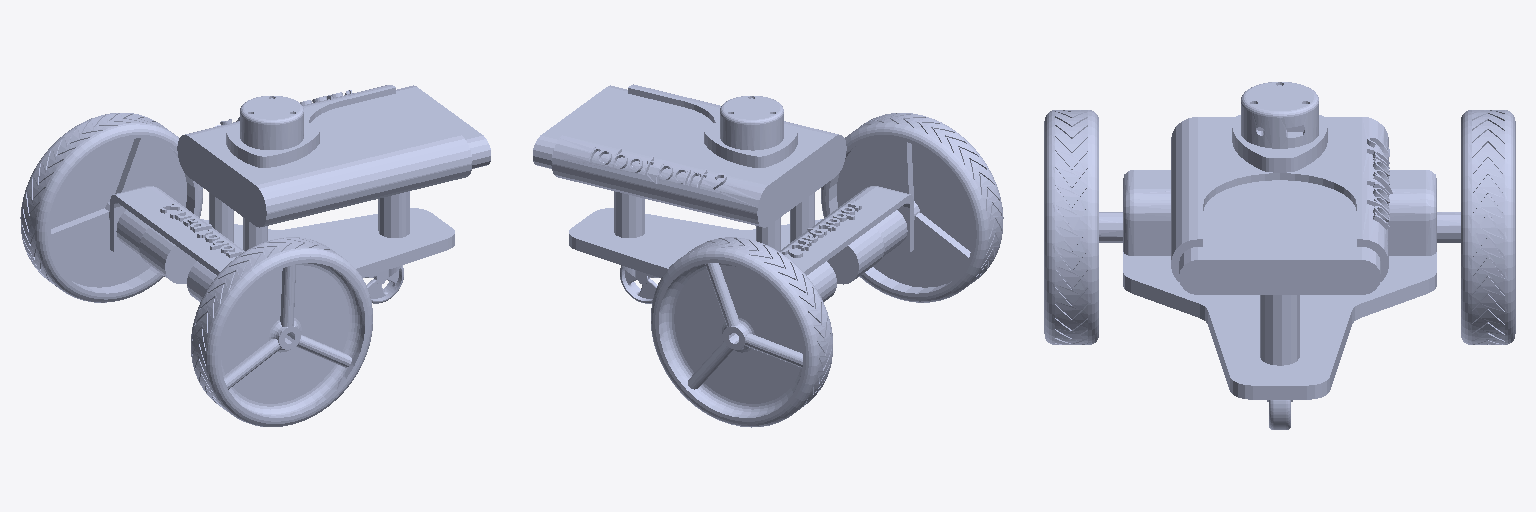
The robot description file, URDF, robot "robot_part2":
<?xml version="1.0" encoding="utf-8"?>
<!-- This URDF was automatically created by SolidWorks to URDF Exporter! Originally created by [author] ([email redacted]) 
     Commit Version: 1.6.0-4-g7f85cfe  Build Version: 1.6.7995.38578
     For more information, please see http://wiki.ros.org/sw_urdf_exporter -->
<robot
  name="robot_part2">
  <link
    name="base_link">
    <inertial>
      <origin
        xyz="-0.0041167 5.0661E-05 0.055243"
        rpy="0 0 0" />
      <mass
        value="1.4917" />
      <inertia
        ixx="0.0024753"
        ixy="1.6253E-07"
        ixz="0.00015354"
        iyy="0.0047624"
        iyz="-1.0939E-06"
        izz="0.0067446" />
    </inertial>
    <visual>
      <origin
        xyz="0 0 0"
        rpy="0 0 0" />
      <geometry>
        <mesh
          filename="package://robot_part2/meshes/base_link.STL" />
      </geometry>
      <material
        name="">
        <color
          rgba="0.79216 0.81961 0.93333 1" />
      </material>
    </visual>
    <collision>
      <origin
        xyz="0 0 0"
        rpy="0 0 0" />
      <geometry>
        <mesh
          filename="package://robot_part2/meshes/base_link.STL" />
      </geometry>
    </collision>
  </link>
  <link
    name="left">
    <inertial>
      <origin
        xyz="-1.5318E-08 -7.4504E-09 -0.012822"
        rpy="0 0 0" />
      <mass
        value="0.30996" />
      <inertia
        ixx="0.00053464"
        ixy="-1.2152E-10"
        ixz="1.4351E-11"
        iyy="0.00053464"
        iyz="7.5703E-12"
        izz="0.0010312" />
    </inertial>
    <visual>
      <origin
        xyz="0 0 0"
        rpy="0 0 0" />
      <geometry>
        <mesh
          filename="package://robot_part2/meshes/left.STL" />
      </geometry>
      <material
        name="">
        <color
          rgba="0.79216 0.81961 0.93333 1" />
      </material>
    </visual>
    <collision>
      <origin
        xyz="0 0 0"
        rpy="0 0 0" />
      <geometry>
        <mesh
          filename="package://robot_part2/meshes/left.STL" />
      </geometry>
    </collision>
  </link>
  <joint
    name="left"
    type="continuous">
    <origin
      xyz="-0.097381 0.145 0.0085"
      rpy="-1.5708 0 0" />
    <parent
      link="base_link" />
    <child
      link="left" />
    <axis
      xyz="0 0 1" />
    <limit
      effort="100"
      velocity="100" />
    <dynamics
      damping="0.1"
      friction="0.1" />
  </joint>
  <link
    name="right">
    <inertial>
      <origin
        xyz="8.8298E-09 1.4566E-08 0.0053216"
        rpy="0 0 0" />
      <mass
        value="0.30996" />
      <inertia
        ixx="0.00053464"
        ixy="-1.3827E-10"
        ixz="8.8601E-12"
        iyy="0.00053464"
        iyz="1.3593E-11"
        izz="0.0010312" />
    </inertial>
    <visual>
      <origin
        xyz="0 0 0"
        rpy="0 0 0" />
      <geometry>
        <mesh
          filename="package://robot_part2/meshes/right.STL" />
      </geometry>
      <material
        name="">
        <color
          rgba="0.79216 0.81961 0.93333 1" />
      </material>
    </visual>
    <collision>
      <origin
        xyz="0 0 0"
        rpy="0 0 0" />
      <geometry>
        <mesh
          filename="package://robot_part2/meshes/right.STL" />
      </geometry>
    </collision>
  </link>
  <joint
    name="right"
    type="continuous">
    <origin
      xyz="-0.097381 -0.1375 0.0085"
      rpy="1.5708 0 -3.1416" />
    <parent
      link="base_link" />
    <child
      link="right" />
    <axis
      xyz="0 0 -1" />
    <limit
      effort="100"
      velocity="100" />
    <dynamics
      damping="0.1"
      friction="0.1" />
  </joint>
  <link
    name="conquay">
    <inertial>
      <origin
        xyz="-0.0067376 -9.0019E-09 0.010834"
        rpy="0 0 0" />
      <mass
        value="0.0019837" />
      <inertia
        ixx="2.7268E-07"
        ixy="-1.4459E-12"
        ixz="8.356E-08"
        iyy="3.0637E-07"
        iyz="1.3524E-12"
        izz="2.7057E-07" />
    </inertial>
    <visual>
      <origin
        xyz="0 0 0"
        rpy="0 0 0" />
      <geometry>
        <mesh
          filename="package://robot_part2/meshes/conquay.STL" />
      </geometry>
      <material
        name="">
        <color
          rgba="0.79216 0.81961 0.93333 1" />
      </material>
    </visual>
    <collision>
      <origin
        xyz="0 0 0"
        rpy="0 0 0" />
      <geometry>
        <mesh
          filename="package://robot_part2/meshes/conquay.STL" />
      </geometry>
    </collision>
  </link>
  <joint
    name="conquay"
    type="continuous">
    <origin
      xyz="0.080203 0 -0.008"
      rpy="3.1416 0 0" />
    <parent
      link="base_link" />
    <child
      link="conquay" />
    <axis
      xyz="0 0 -1" />
    <limit
      effort="100"
      velocity="100" />
    <dynamics
      damping="0.1"
      friction="0.1" />
  </joint>
  <link
    name="miniwheel">
    <inertial>
      <origin
        xyz="5.3991E-11 9.4611E-11 -4.997E-13"
        rpy="0 0 0" />
      <mass
        value="0.007535" />
      <inertia
        ixx="1.18E-06"
        ixy="-1.46E-16"
        ixz="-1.9283E-16"
        iyy="1.18E-06"
        iyz="-7.274E-17"
        izz="2.2175E-06" />
    </inertial>
    <visual>
      <origin
        xyz="0 0 0"
        rpy="0 0 0" />
      <geometry>
        <mesh
          filename="package://robot_part2/meshes/miniwheel.STL" />
      </geometry>
      <material
        name="">
        <color
          rgba="0.79216 0.81961 0.93333 1" />
      </material>
    </visual>
    <collision>
      <origin
        xyz="0 0 0"
        rpy="0 0 0" />
      <geometry>
        <mesh
          filename="package://robot_part2/meshes/miniwheel.STL" />
      </geometry>
    </collision>
  </link>
  <joint
    name="miniwheel"
    type="continuous">
    <origin
      xyz="-0.015015 0 0.027"
      rpy="1.5708 -1.5708 0" />
    <parent
      link="conquay" />
    <child
      link="miniwheel" />
    <axis
      xyz="0 0 1" />
    <limit
      effort="100"
      velocity="100" />
    <dynamics
      damping="0.1"
      friction="0.1" />
  </joint>
</robot>

--- Render facts (derived) ---
3 views of the same robot in one strip: view 1: azimuth 30°, elevation 25°; view 2: azimuth 150°, elevation 25°; view 3: azimuth 270°, elevation 25° (orthographic).
Model robot_part2 with 5 links and 4 joints (4 continuous), rooted at base_link, posed all joints at 0.
Visible links, largest first — view 1: base_link, right, left, miniwheel; view 2: base_link, left, right, miniwheel; view 3: base_link, left, right, miniwheel.
Link boxes in pixels (left/top/right/bottom): base_link: left=110, top=85, right=490, bottom=301; right: left=191, top=237, right=372, bottom=426; left: left=20, top=113, right=202, bottom=302; miniwheel: left=365, top=265, right=403, bottom=303; base_link: left=533, top=84, right=913, bottom=301; left: left=651, top=237, right=832, bottom=427; right: left=821, top=113, right=1003, bottom=302; miniwheel: left=620, top=265, right=658, bottom=303; base_link: left=1123, top=82, right=1436, bottom=399; left: left=1437, top=110, right=1515, bottom=344; right: left=1044, top=110, right=1122, bottom=344; miniwheel: left=1269, top=400, right=1290, bottom=429.
Bounding box of the posed robot: 0.3026 × 0.3 × 0.1985 m (x, y, z).
5 mesh visuals loaded from 5 distinct referenced files (5 binary STL).